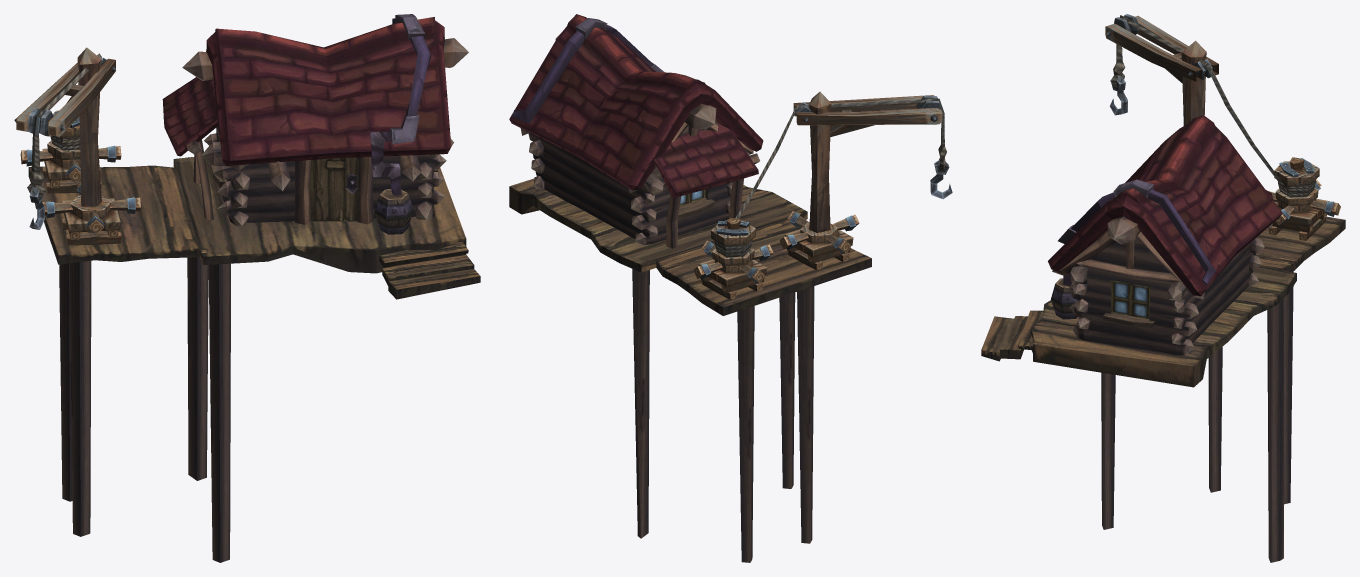
Rendered from building_mineoffice.fbx.
The picture shows the model from 3 angles, left to right: view 1: azimuth 30°, elevation 25°; view 2: azimuth 150°, elevation 25°; view 3: azimuth 270°, elevation 25°; orthographic projection. The views are drawn at different scales.
Parts seen in each view (by area): view 1: obj7; view 2: obj7; view 3: obj7.
Part boxes in pixels (<box>): obj7: <box>14,14,480,562</box>; obj7: <box>509,14,952,562</box>; obj7: <box>981,14,1345,562</box>.
Bounding box in the file's own units: 15.58 × 16.51 × 12.09.
